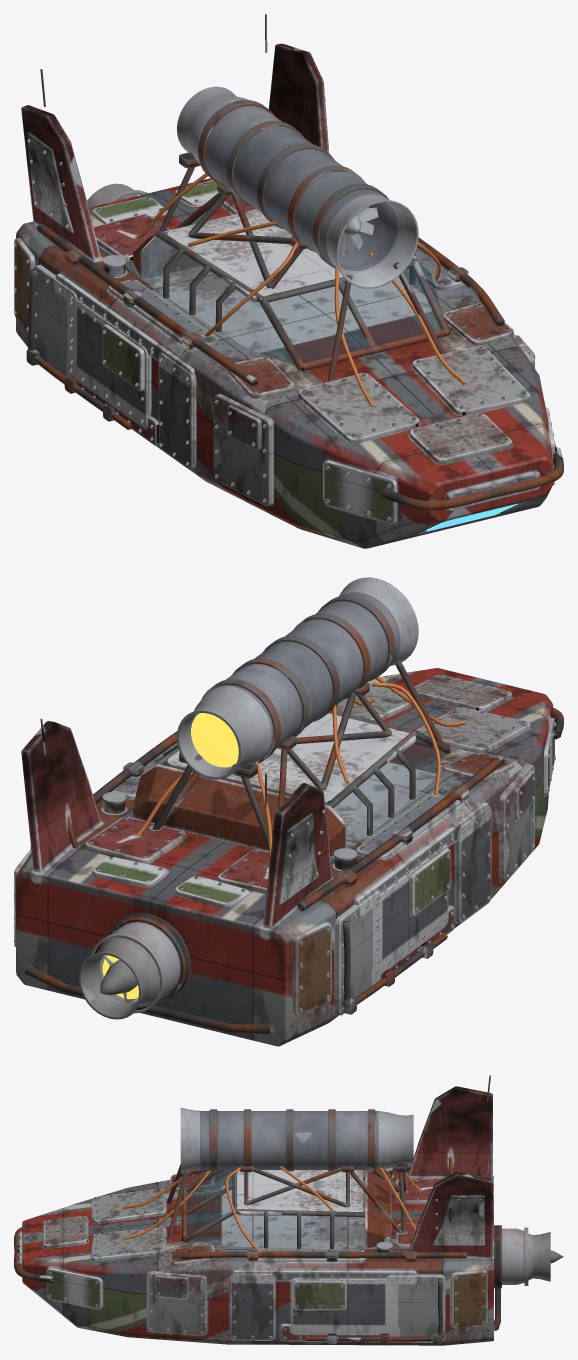
The model's file is scrapper.glb.
3 renders of one model, top to bottom at view 1: azimuth 30°, elevation 25°; view 2: azimuth 150°, elevation 25°; view 3: azimuth 270°, elevation 25°, orthographic. The views are drawn at different scales.
Parts seen in each view (by area): view 1: scrapper_body, canopy, scrapper_cables, fan_C; view 2: scrapper_body, canopy, scrapper_emissive, scrapper_cables; view 3: scrapper_body, canopy, scrapper_cables.
Part boxes in pixels (<box>): scrapper_body: <box>14,14,563,548</box>; canopy: <box>142,231,441,368</box>; scrapper_cables: <box>135,173,466,406</box>; fan_C: <box>340,207,378,256</box>; scrapper_body: <box>14,577,563,1046</box>; canopy: <box>159,737,445,848</box>; scrapper_emissive: <box>102,713,238,999</box>; scrapper_cables: <box>135,676,466,865</box>; scrapper_body: <box>14,1075,563,1345</box>; canopy: <box>187,1170,364,1249</box>; scrapper_cables: <box>123,1166,421,1251</box>.
Size of the model in its own units: 1.96 by 1.57 by 4.17.
6 materials, 2 textured.
